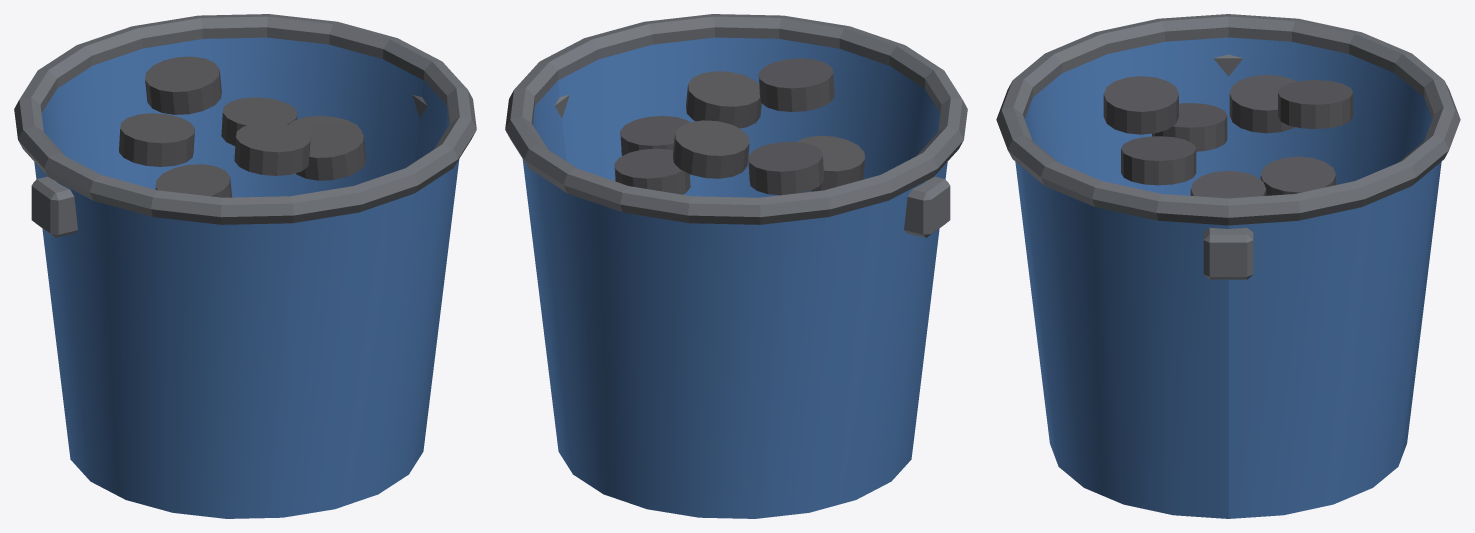
Rendered from ice-hockey-arena-and-locker-room-puck-bucket-a9f7c223__33710.glb.
3 renders of one model, left to right at view 1: azimuth 30°, elevation 25°; view 2: azimuth 150°, elevation 25°; view 3: azimuth 270°, elevation 25°, orthographic.
Visible parts, largest first — view 1: puck-bucket; view 2: puck-bucket; view 3: puck-bucket.
Part boxes in pixels (box(x1,y1,x2,y2)): puck-bucket: box(14, 14, 476, 518); puck-bucket: box(505, 14, 967, 518); puck-bucket: box(996, 14, 1460, 518).
Size of the model in its own units: 0.475 by 0.3837 by 0.468.
